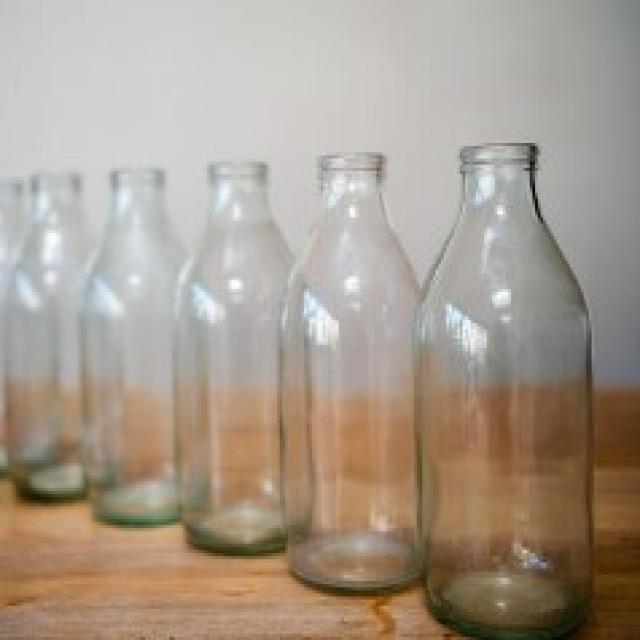electronic: (0, 140, 597, 640)
